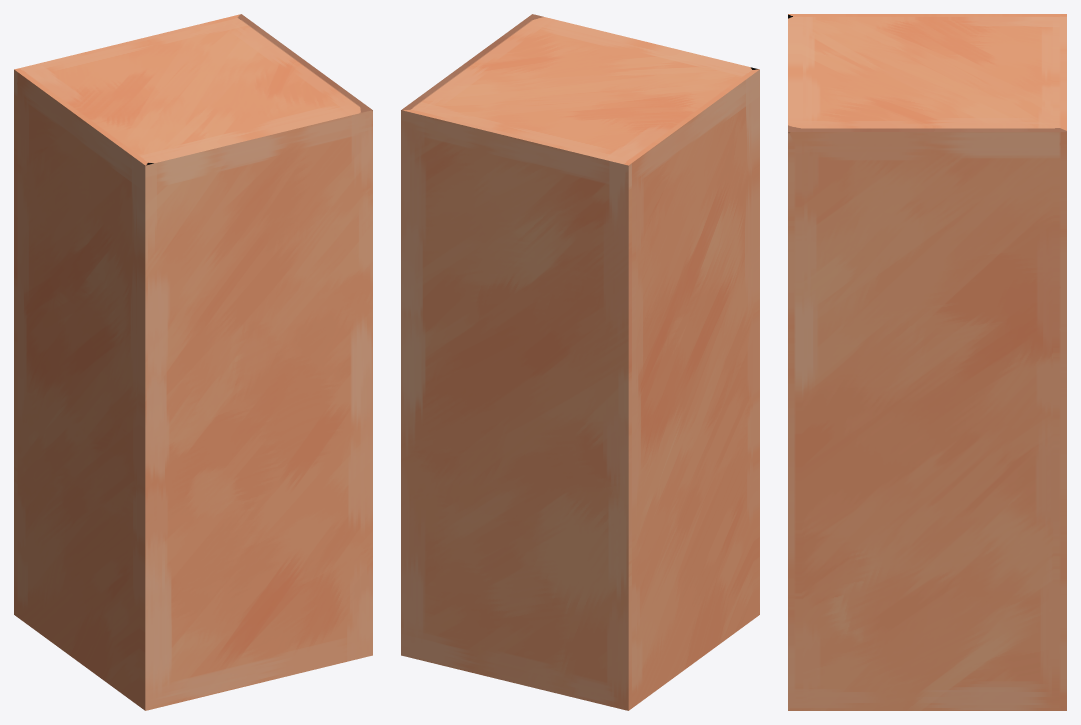
The model's file is parapet_corner_low.fbx.
3 views of the same model, side by side, from view 1: azimuth 30°, elevation 25°; view 2: azimuth 150°, elevation 25°; view 3: azimuth 270°, elevation 25° (orthographic). The views are drawn at different scales.
Parts seen in each view (by area): view 1: parapet_corner; view 2: parapet_corner; view 3: parapet_corner.
Boxes of the visible parts, x1=… form: parapet_corner: x1=14, y1=14, x2=372, y2=710; parapet_corner: x1=401, y1=14, x2=759, y2=710; parapet_corner: x1=788, y1=14, x2=1066, y2=710.
Bounding box in the file's own units: 1.44 × 3.3 × 1.44.
1 material, 1 textured.
